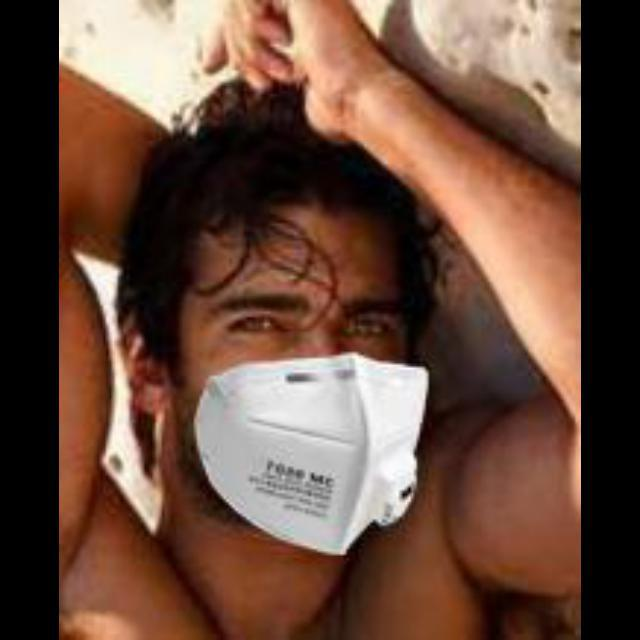suspicion: (128, 159, 434, 525)
